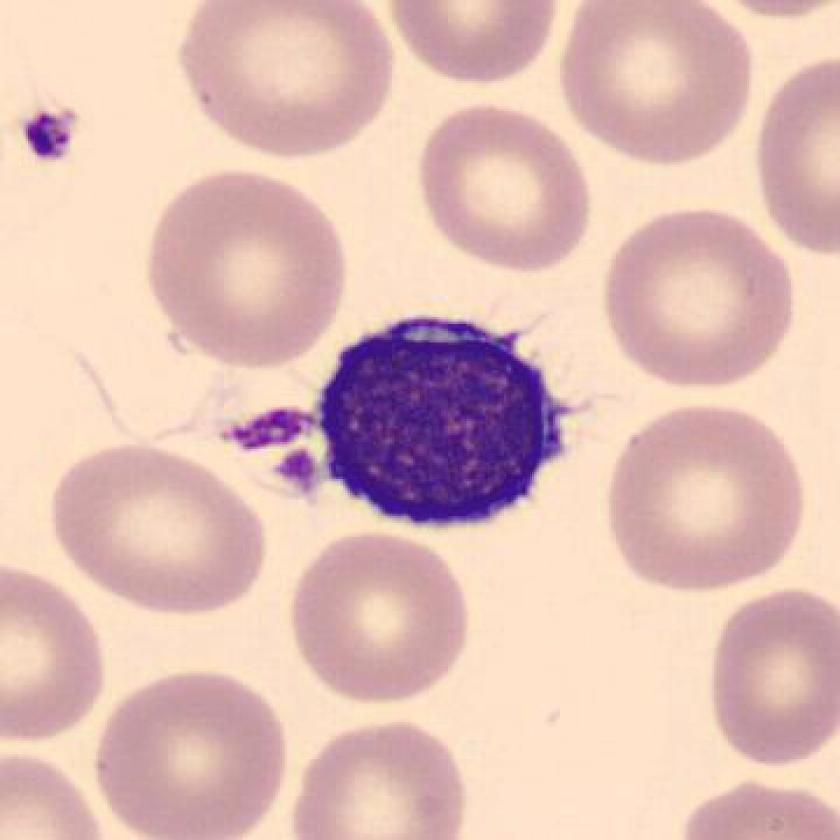lymphocyte: (295, 304, 587, 538)
